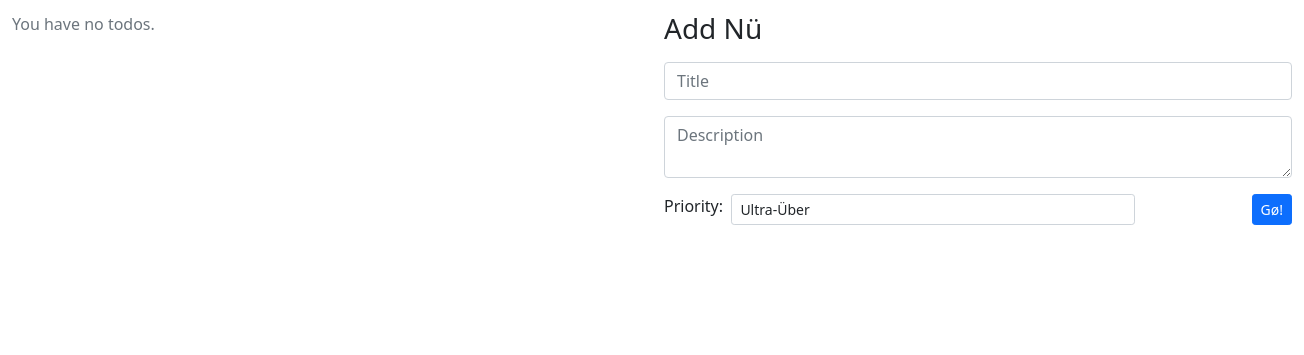
Test: Test that todo(verify w/ title) isn't there, add it, verify it's there
This screenshot has width=1304, height=355.
Type "test title" into the field with id "newTodo-title".
click(978, 81); type("test title")  # box [664, 62, 1292, 100]
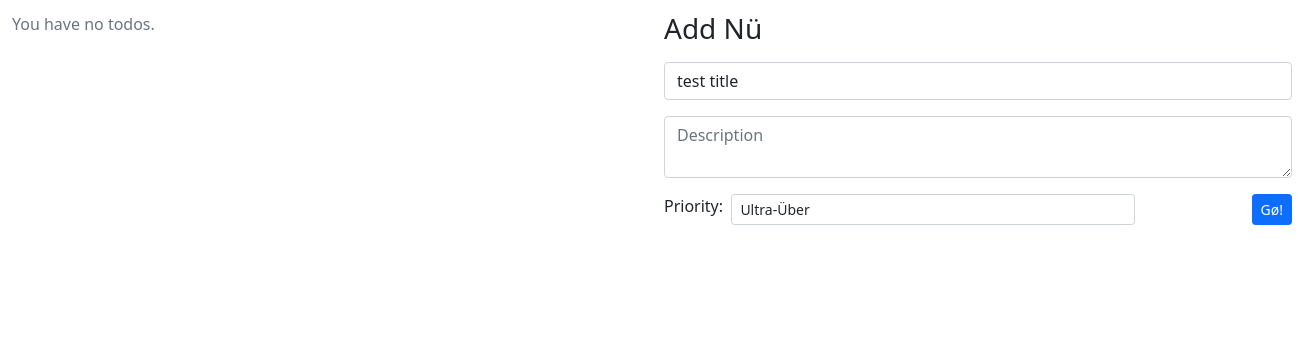
Type "test description" into the text box with id "newTodo-description".
click(978, 147); type("test description")  # box [664, 116, 1292, 178]
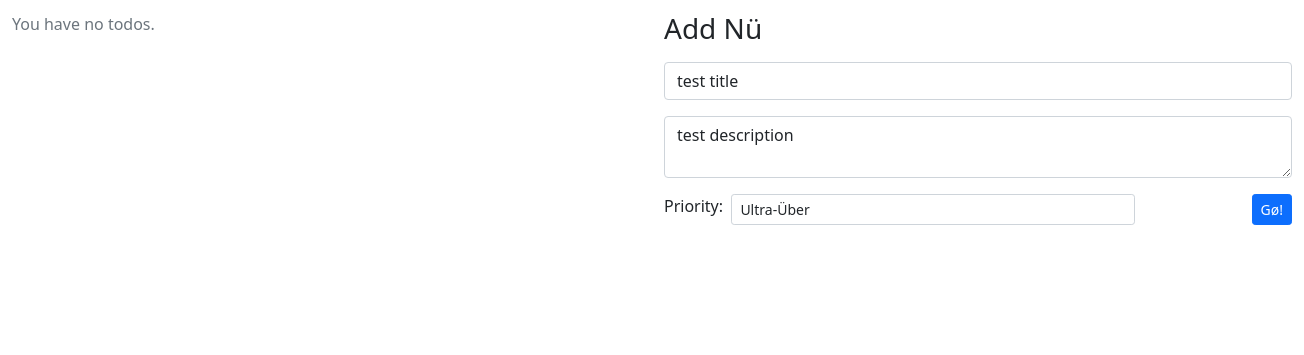
Select "Über" in the dropdown with id "newTodo-priority" at point(933, 209), box [731, 194, 1135, 225]
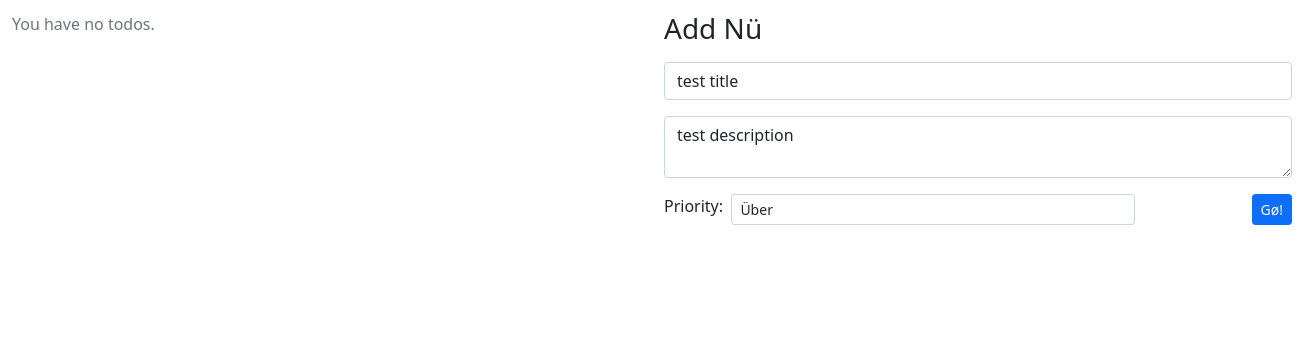
Submit the form from the button with class "NewTodoForm-addBtn", box [1252, 194, 1292, 225]
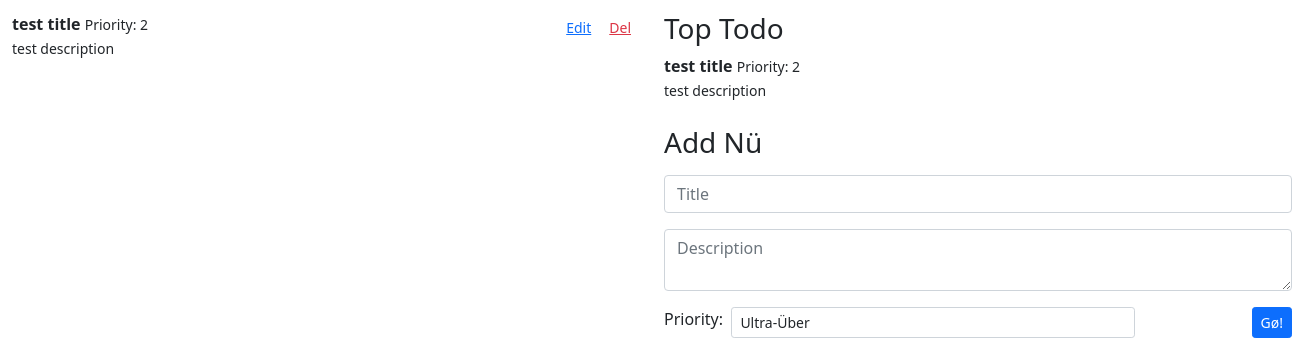
Now the text "You have no todos." is gone
Now the text "test title" is shown, box [12, 13, 81, 35]
